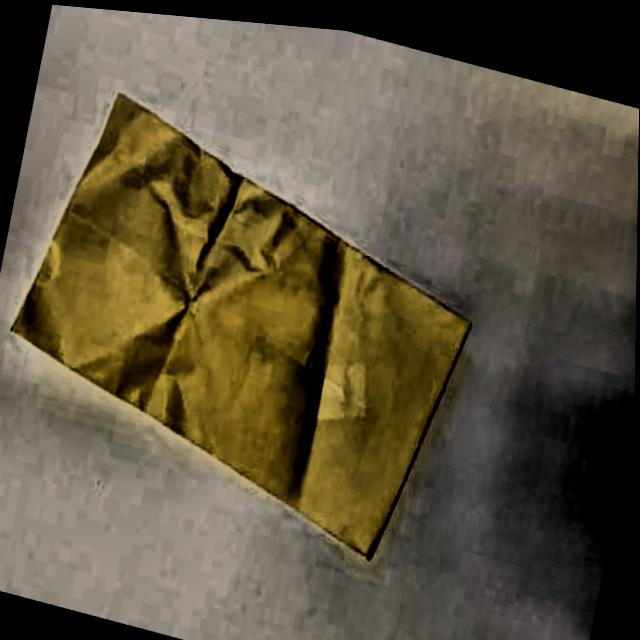Paper: (0, 58, 509, 580)
